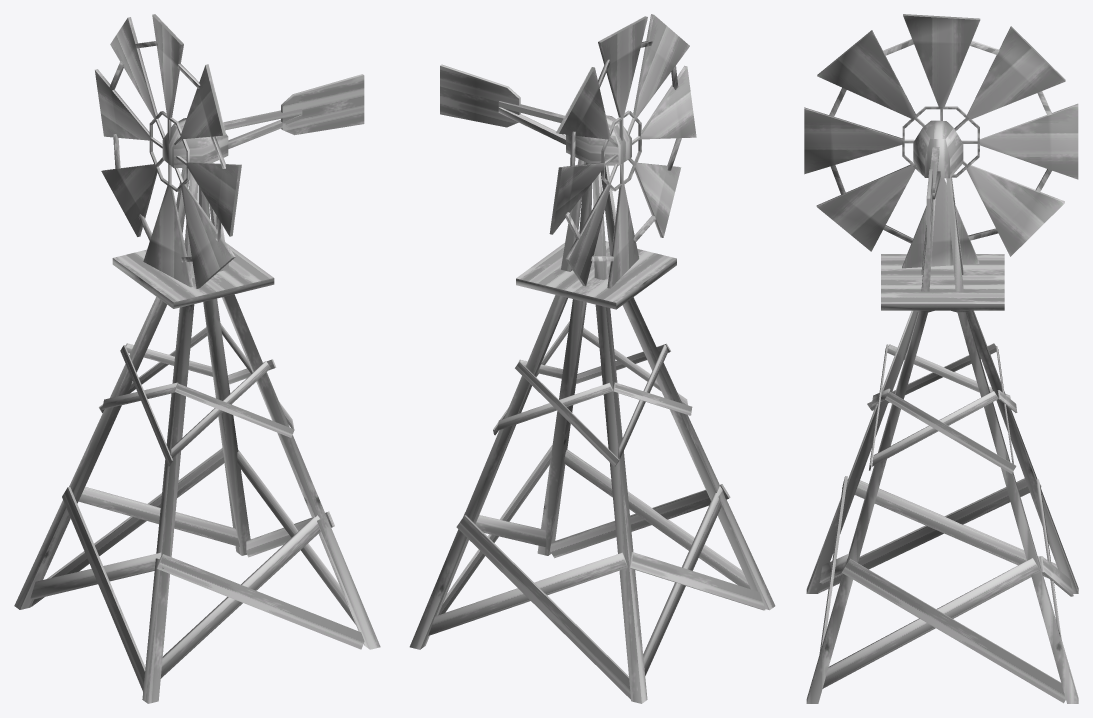
Rendered from WindMillModel.fbx.
3 views of the same model, side by side, from view 1: azimuth 30°, elevation 25°; view 2: azimuth 150°, elevation 25°; view 3: azimuth 270°, elevation 25° (orthographic).
Parts seen in each view (by area): view 1: Windmill, WindMillBlade, Windmill (4), WindMillTop, Windmill (5), Windmill (2), Windmill (3), Windmill (8), Windmill (6), Windmill (9), Windmill (7); view 2: Windmill, WindMillBlade, Windmill (5), WindMillTop, Windmill (4), Windmill (2), Windmill (3), Windmill (9), Windmill (6), Windmill (8), Windmill (7); view 3: WindMillBlade, Windmill, Windmill (3), Windmill (2), WindMillTop, Windmill (7), Windmill (6), Windmill (4), Windmill (5), Windmill (8), Windmill (9).
Part boxes in pixels (bbox=[...]): Windmill: bbox=[14, 163, 380, 703]; WindMillBlade: bbox=[95, 14, 241, 288]; Windmill (4): bbox=[156, 515, 364, 678]; WindMillTop: bbox=[162, 74, 364, 168]; Windmill (5): bbox=[31, 448, 239, 606]; Windmill (2): bbox=[30, 487, 165, 691]; Windmill (3): bbox=[237, 449, 355, 624]; Windmill (8): bbox=[170, 361, 294, 458]; Windmill (6): bbox=[102, 345, 179, 466]; Windmill (9): bbox=[99, 327, 212, 413]; Windmill (7): bbox=[220, 323, 293, 428]; Windmill: bbox=[409, 159, 775, 703]; WindMillBlade: bbox=[549, 14, 696, 288]; Windmill (5): bbox=[428, 515, 630, 699]; WindMillTop: bbox=[440, 64, 631, 165]; Windmill (4): bbox=[550, 449, 750, 589]; Windmill (2): bbox=[628, 486, 765, 675]; Windmill (3): bbox=[438, 445, 552, 614]; Windmill (9): bbox=[497, 361, 619, 466]; Windmill (6): bbox=[613, 344, 692, 459]; Windmill (8): bbox=[576, 327, 687, 405]; Windmill (7): bbox=[493, 321, 569, 435]; WindMillBlade: bbox=[804, 14, 1078, 268]; Windmill: bbox=[806, 176, 1078, 703]; Windmill (3): bbox=[822, 558, 1065, 703]; Windmill (2): bbox=[819, 478, 1057, 592]; WindMillTop: bbox=[913, 120, 963, 247]; Windmill (7): bbox=[872, 391, 1016, 473]; Windmill (6): bbox=[867, 343, 1010, 410]; Windmill (4): bbox=[819, 476, 848, 653]; Windmill (5): bbox=[1036, 479, 1073, 638]; Windmill (8): bbox=[869, 344, 890, 470]; Windmill (9): bbox=[996, 346, 1017, 464].
Bounding box in the file's own units: 4.71 × 9.92 × 4.01.
